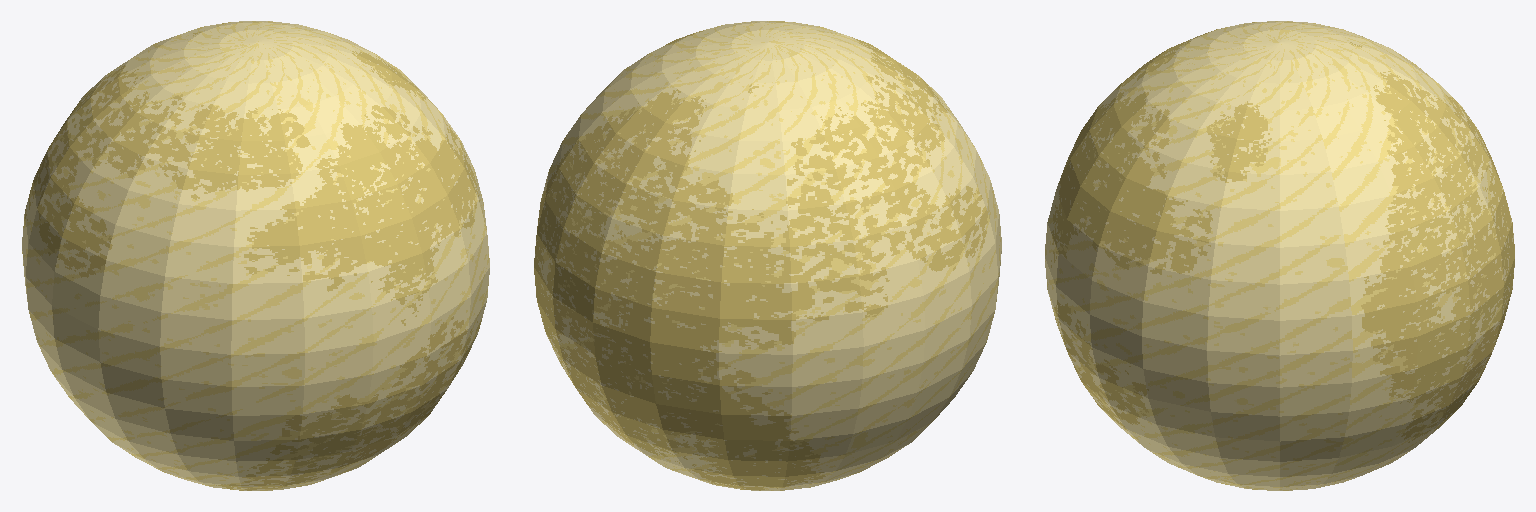
The picture shows the model from 3 angles: view 1: azimuth 30°, elevation 25°; view 2: azimuth 150°, elevation 25°; view 3: azimuth 270°, elevation 25°; orthographic projection.
Parts seen in each view (by area): view 1: pSphere1; view 2: pSphere1; view 3: pSphere1.
Boxes of the visible parts, x1,y1,x2,y2 form: pSphere1: [22, 21, 489, 490]; pSphere1: [534, 21, 1001, 490]; pSphere1: [1045, 21, 1514, 490].
Bounding box in the file's own units: 5.99 × 5.99 × 5.99.
1 materials, 1 textured.